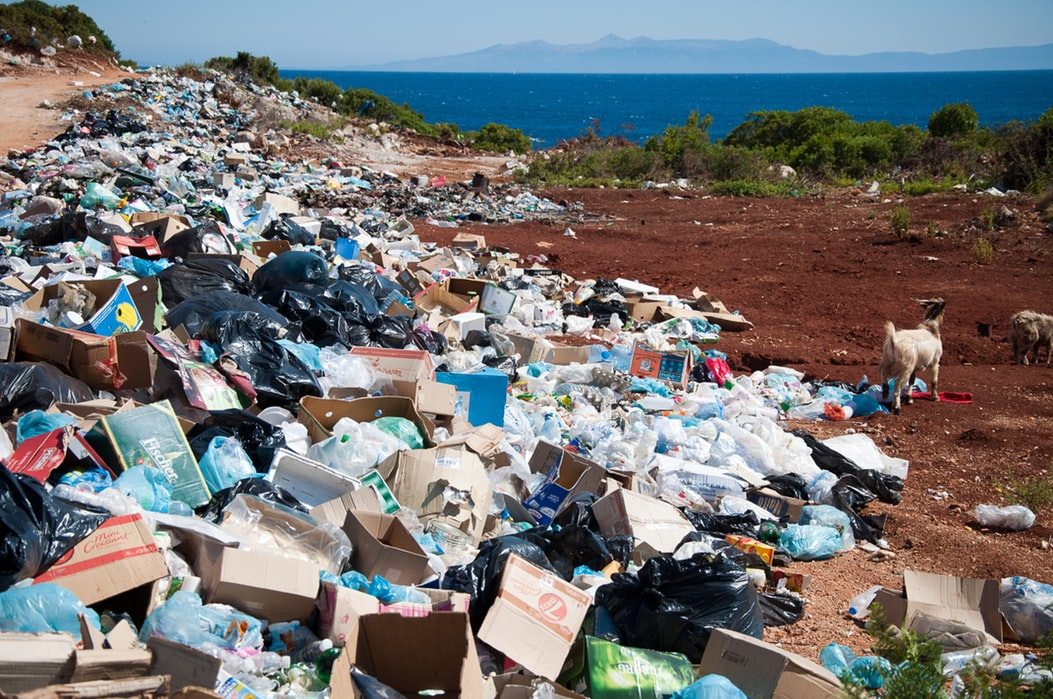garbage: (1, 157, 447, 699), (253, 276, 736, 699), (497, 414, 900, 699), (82, 88, 289, 272), (894, 568, 1053, 659)
